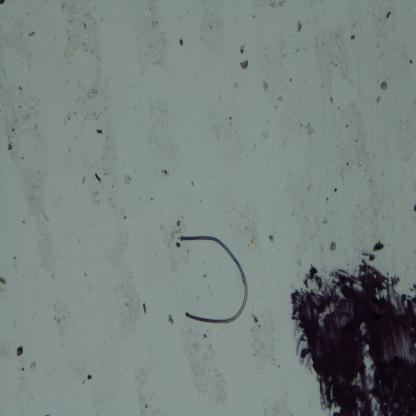Background material: (0, 88, 59, 276), (216, 102, 262, 251), (333, 97, 383, 233), (100, 208, 142, 335), (180, 324, 227, 403), (132, 85, 180, 160), (134, 3, 171, 74), (62, 1, 101, 63), (314, 26, 351, 84), (249, 301, 278, 372), (134, 365, 167, 415), (66, 92, 106, 132), (160, 220, 191, 270), (102, 115, 121, 191), (49, 299, 74, 343), (172, 219, 182, 249), (371, 240, 386, 254), (88, 84, 101, 99), (15, 344, 24, 359), (123, 173, 132, 188), (296, 18, 304, 33), (306, 122, 314, 136), (240, 58, 249, 70), (304, 183, 314, 193), (328, 240, 338, 250), (167, 314, 175, 326), (161, 168, 170, 178), (86, 372, 94, 383), (178, 35, 184, 49), (262, 82, 270, 92), (0, 276, 8, 286), (267, 232, 275, 242), (380, 81, 388, 91), (240, 43, 247, 54), (142, 301, 147, 316), (95, 172, 102, 182), (278, 95, 284, 106), (386, 10, 392, 19), (96, 128, 104, 134), (0, 0, 6, 6)
Microfibre: (180, 234, 249, 325)
Pen: (288, 255, 416, 414)
